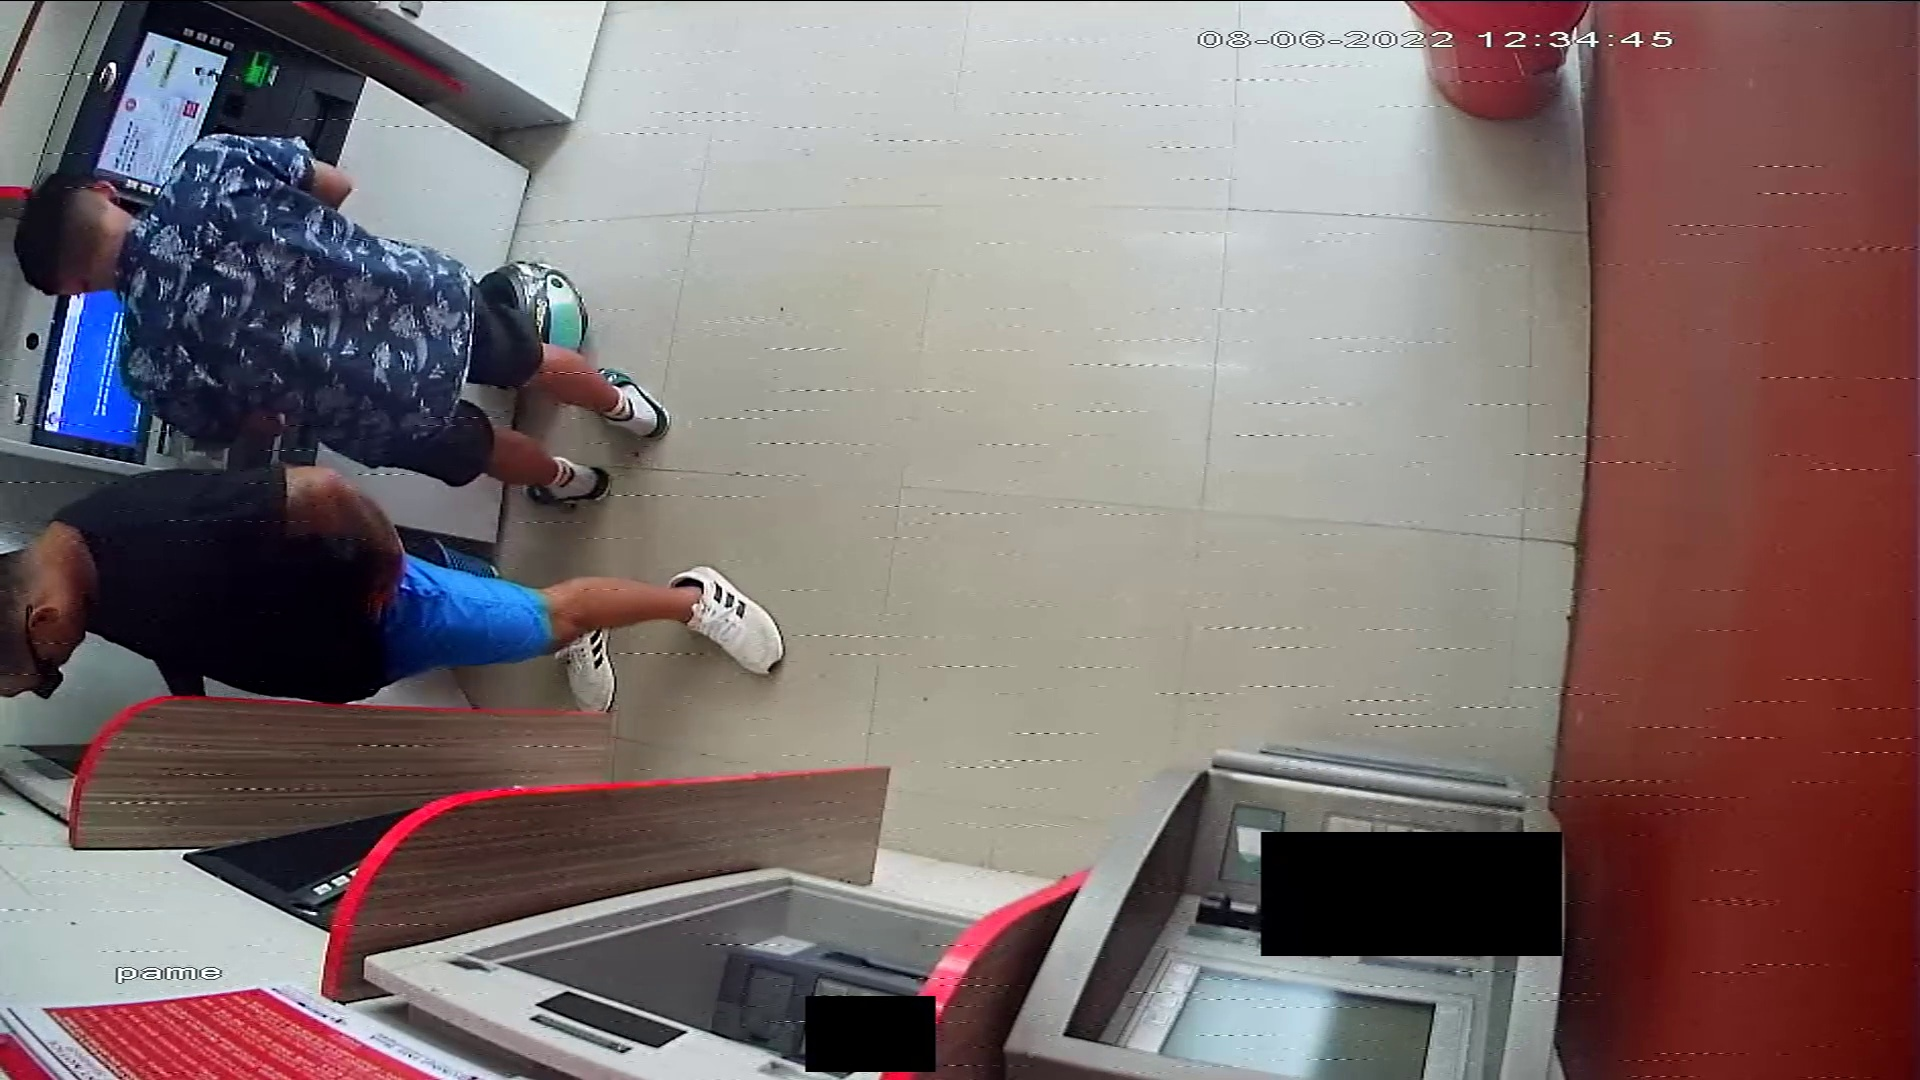helmet: (483, 256, 585, 352)
person: (15, 136, 673, 506), (1, 468, 783, 714)
